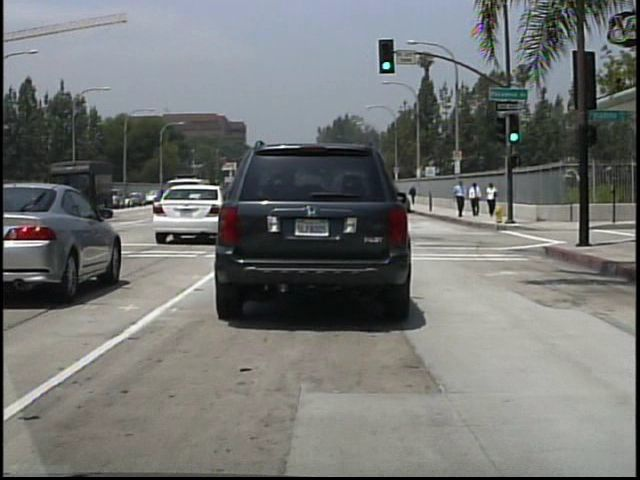person: (453, 178, 468, 220), (484, 180, 498, 216), (468, 181, 482, 217), (407, 184, 417, 206)
